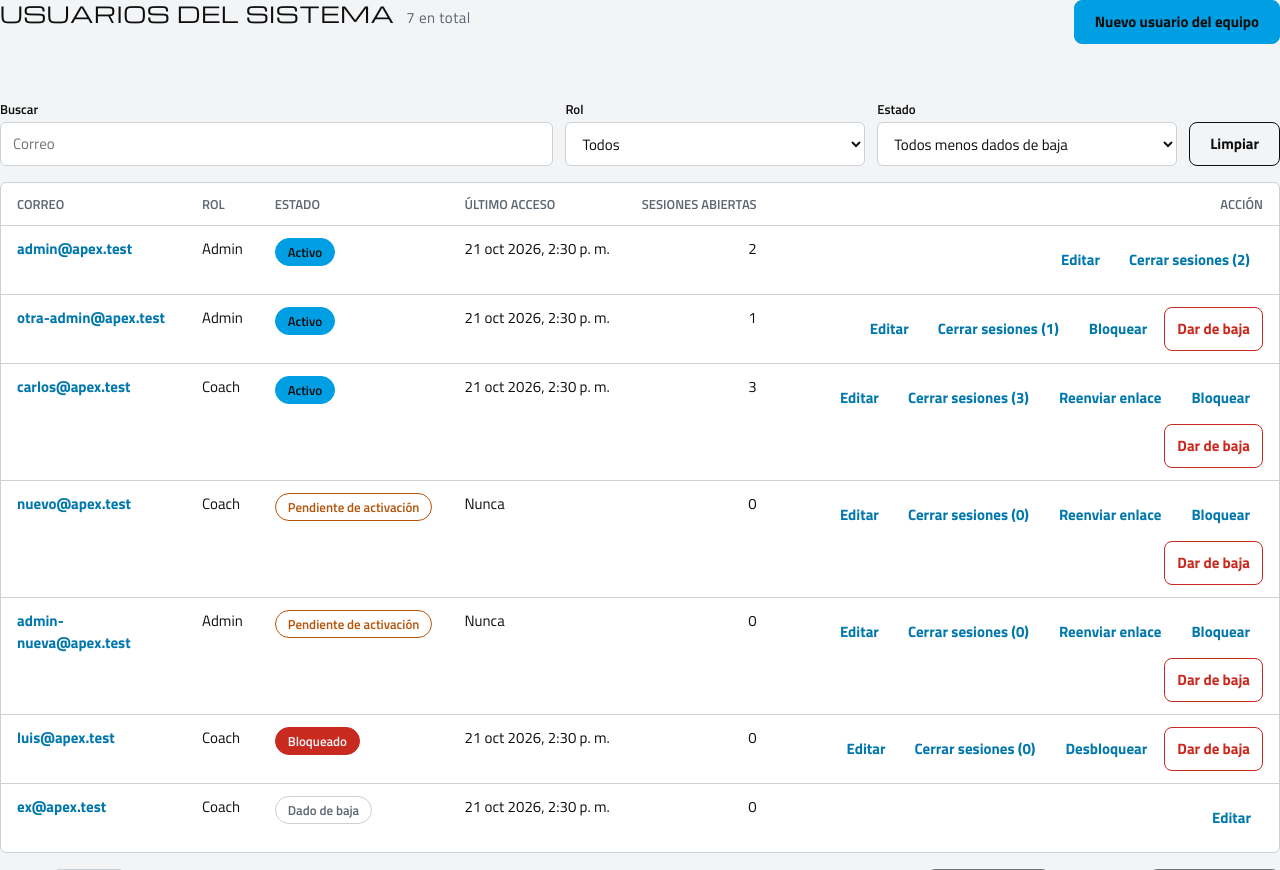
Test: UsersPage · bloquear (US-051) › 409 already_locked se explica dentro del modal
What coordinates should you click on to do the following:
click the button "Bloquear" in the row of "otra-admin@apex.test"
I would click on:
 (1118, 329)
Its box is [1076,307,1160,351].
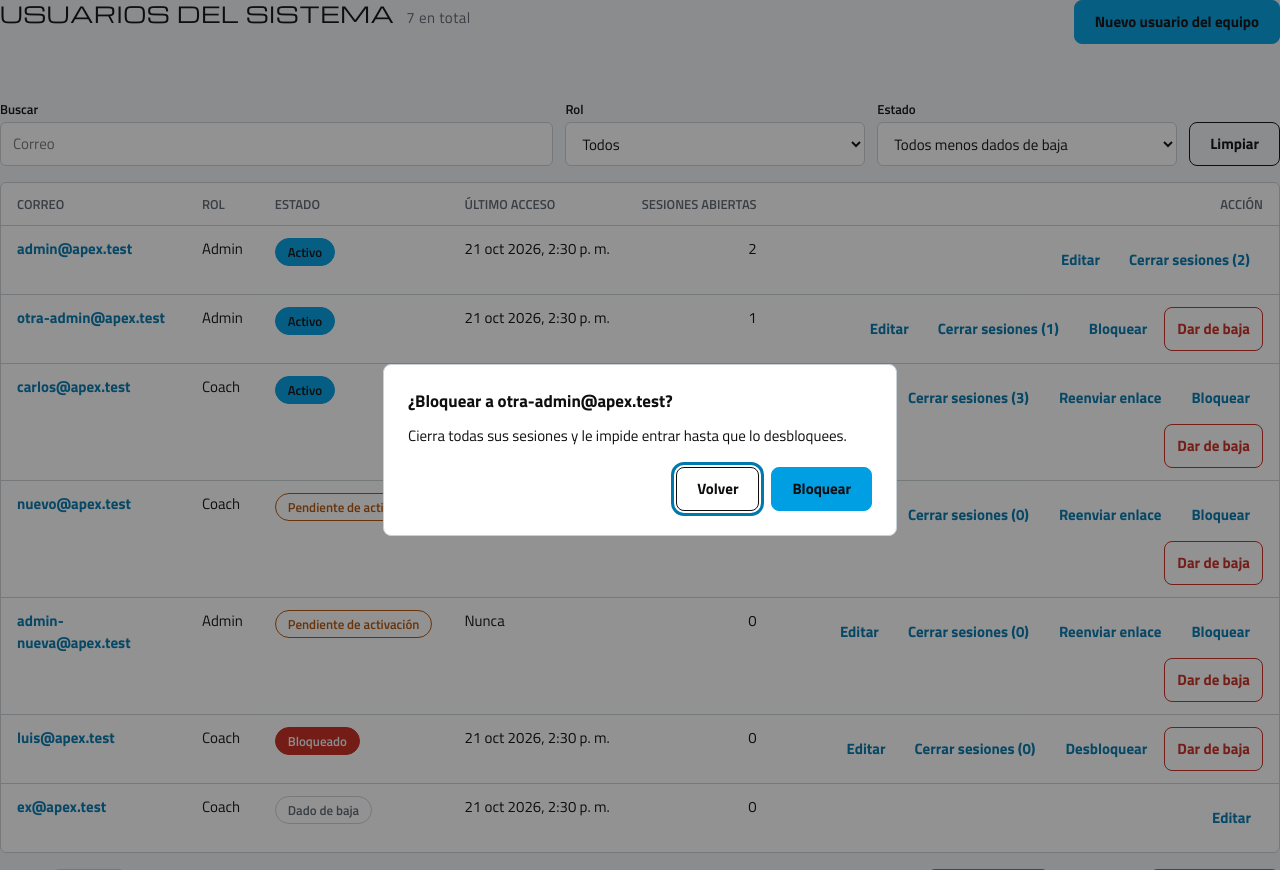
What coordinates should you click on to do the following:
click the button "Bloquear"
I would click on:
 (822, 489)
Its box is [772,467,872,511].
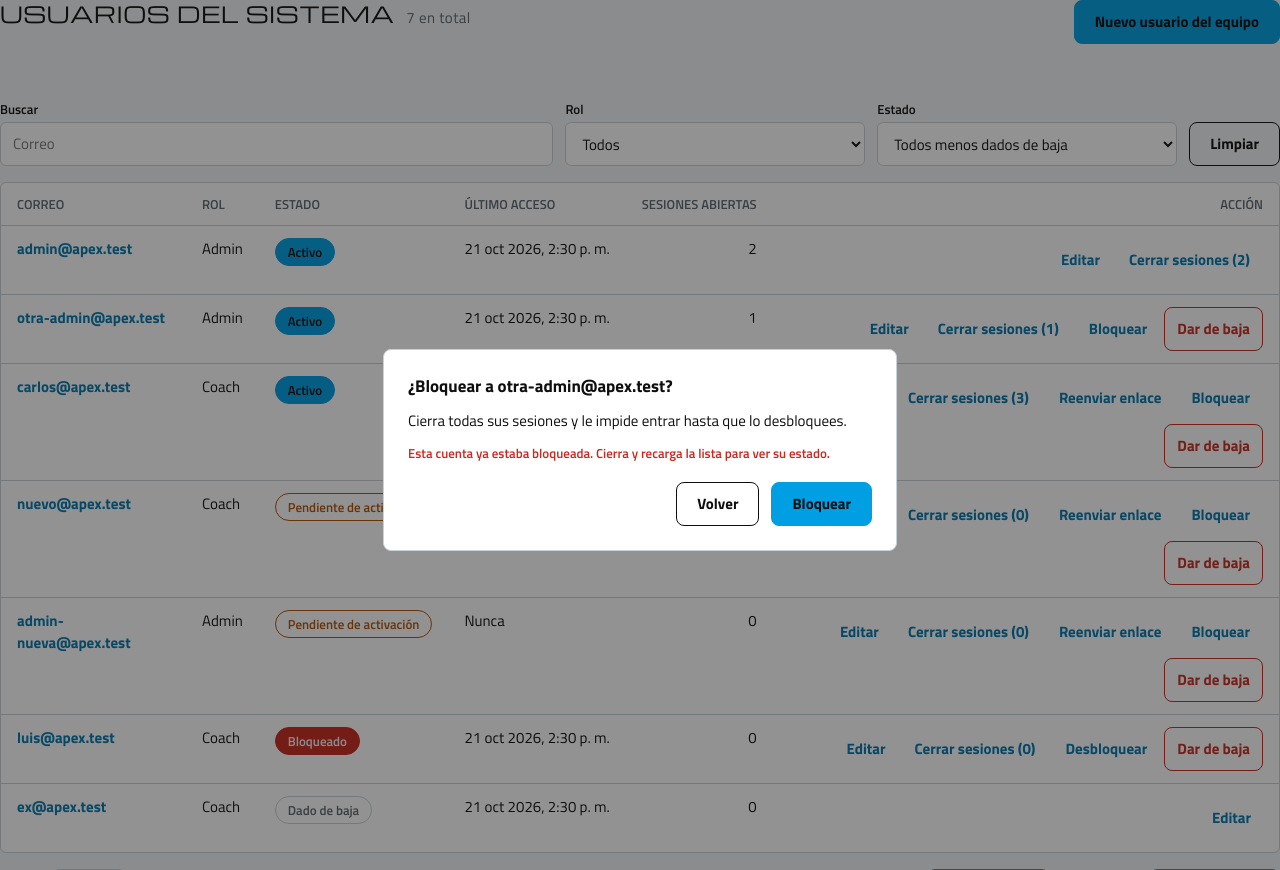
Expected: the message reads "Esta cuenta ya estaba bloqueada. Cierra y recarga la lista para ver su estado.", [408,443,830,463]
